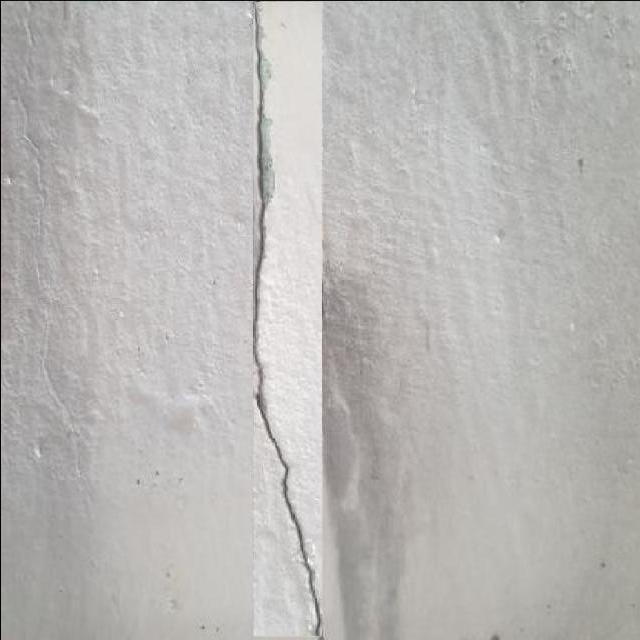Crack: (248, 1, 324, 637)
